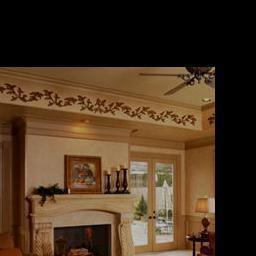Puerta: (133, 154, 179, 245)
